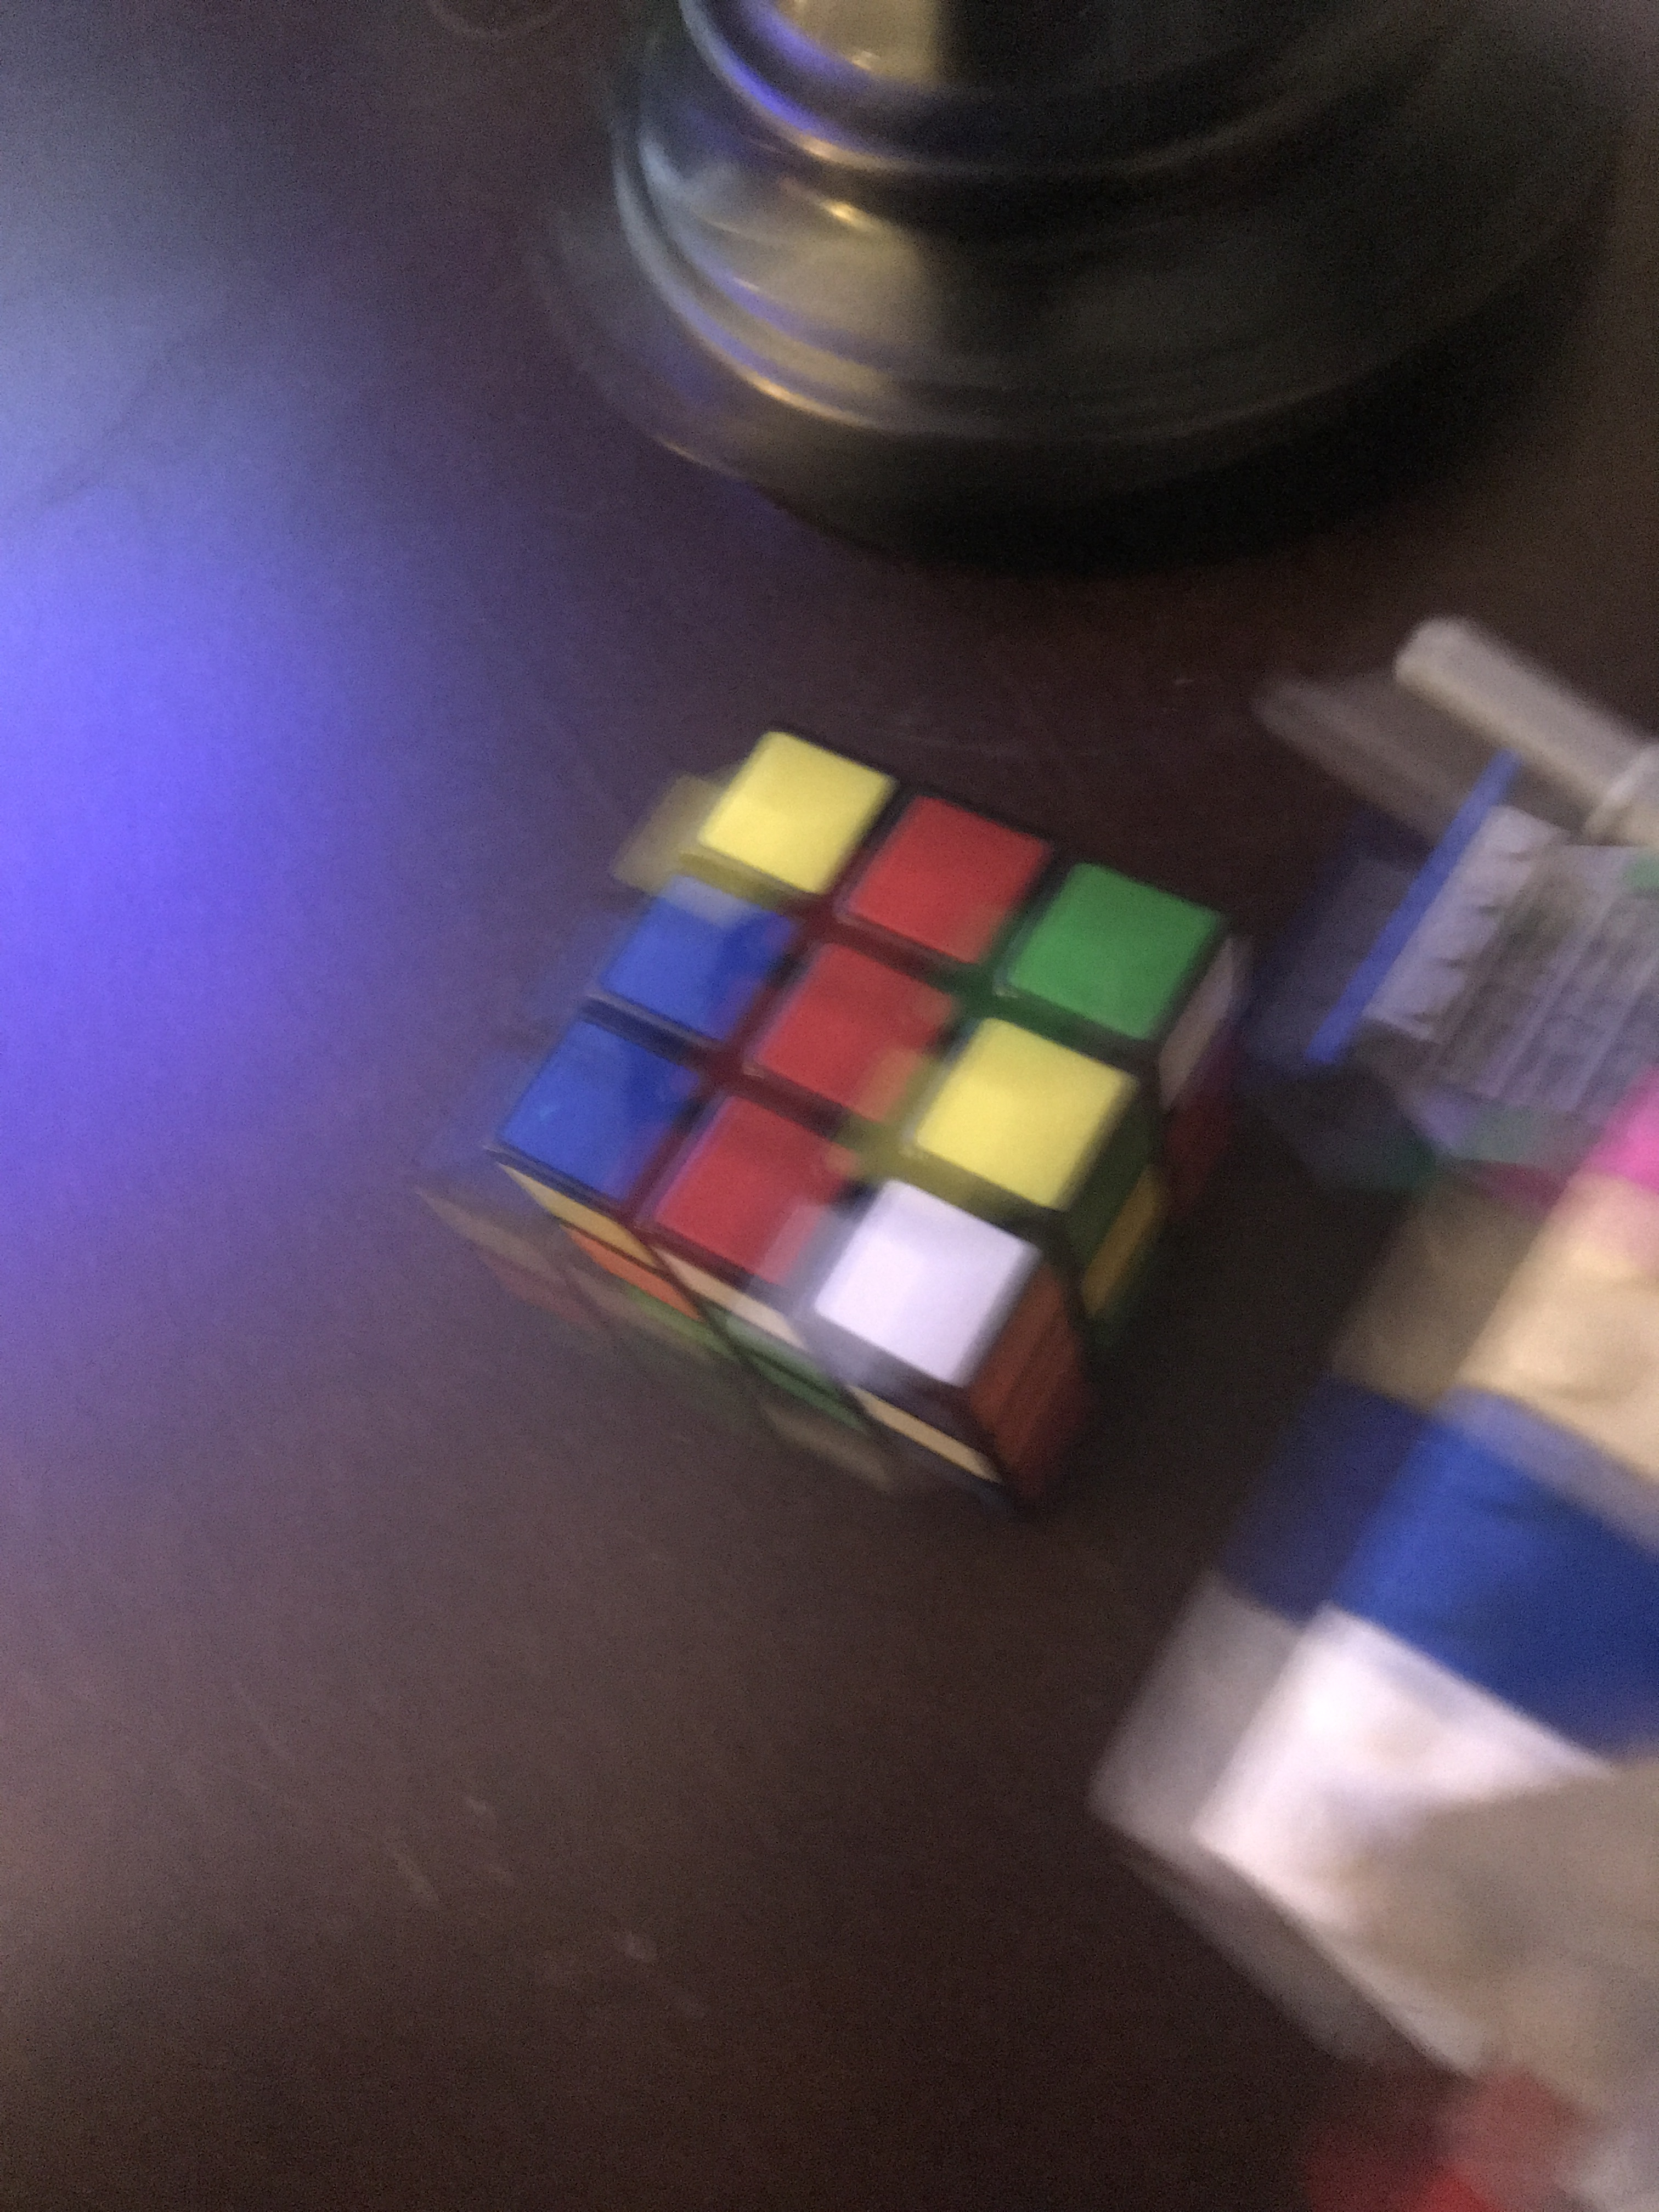rubiks: (493, 732, 1239, 1538)
